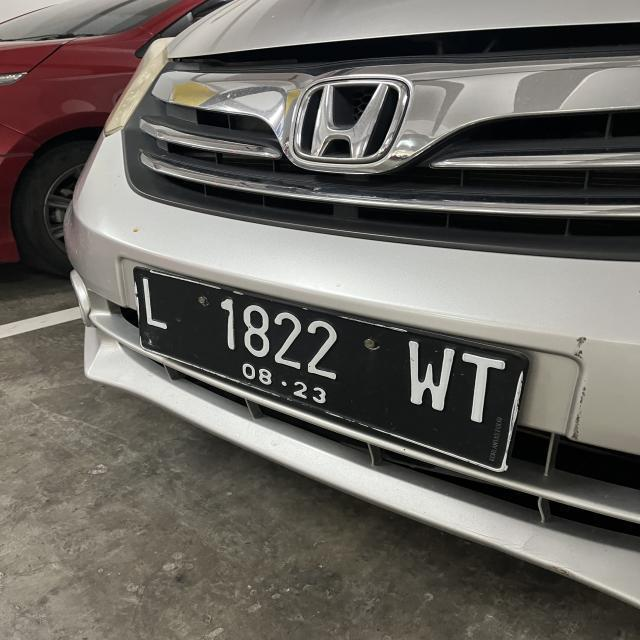1: (216, 294, 238, 354)
2: (306, 316, 346, 385), (272, 306, 304, 376)
8: (240, 300, 273, 360)
L: (140, 273, 172, 335)
T: (462, 347, 502, 428)
W: (406, 338, 454, 415)
